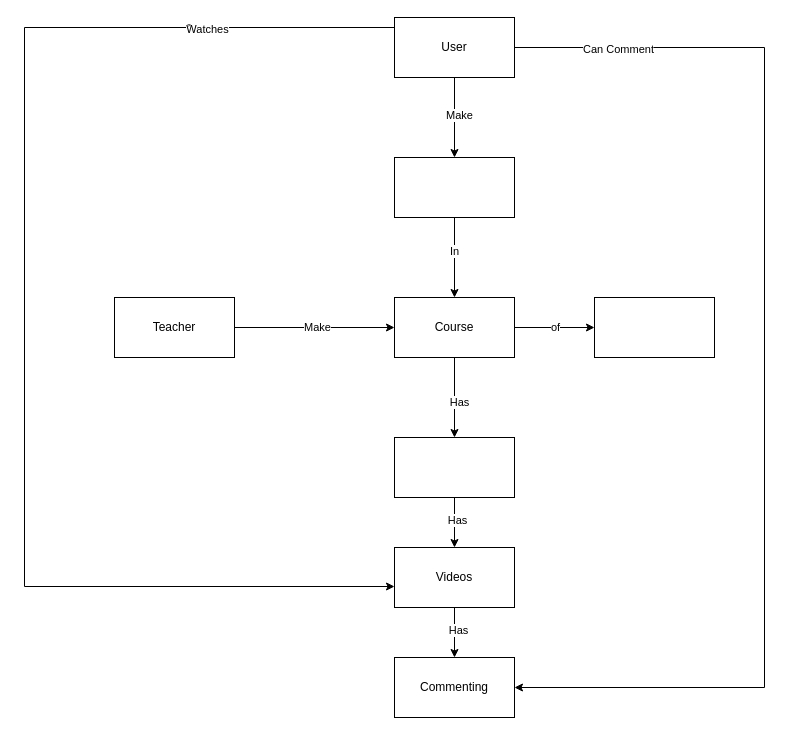
This 790x735 diagram has some shape labels left out. Each missing label, with the centre of its shape:
"Enrollment" goes at [454,187].
"Modules" goes at [454,467].
"Subject" goes at [654,327].
